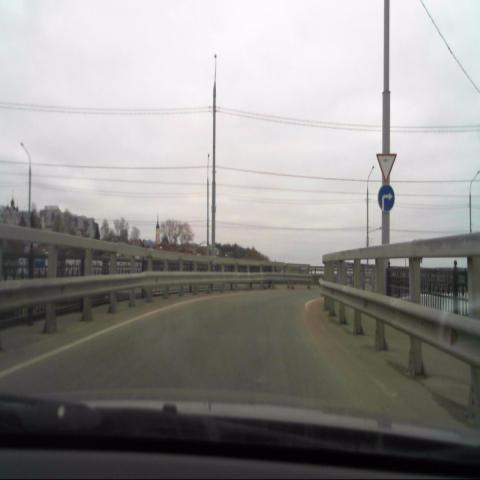4_1_2: (376, 184, 396, 214)
